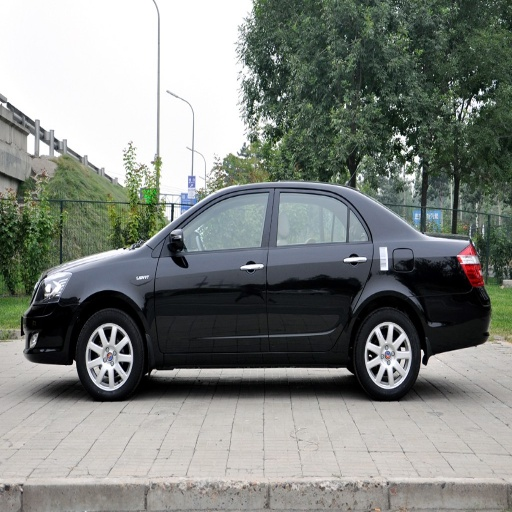back_left_door: (268, 187, 371, 351)
front_left_door: (156, 188, 274, 353)
